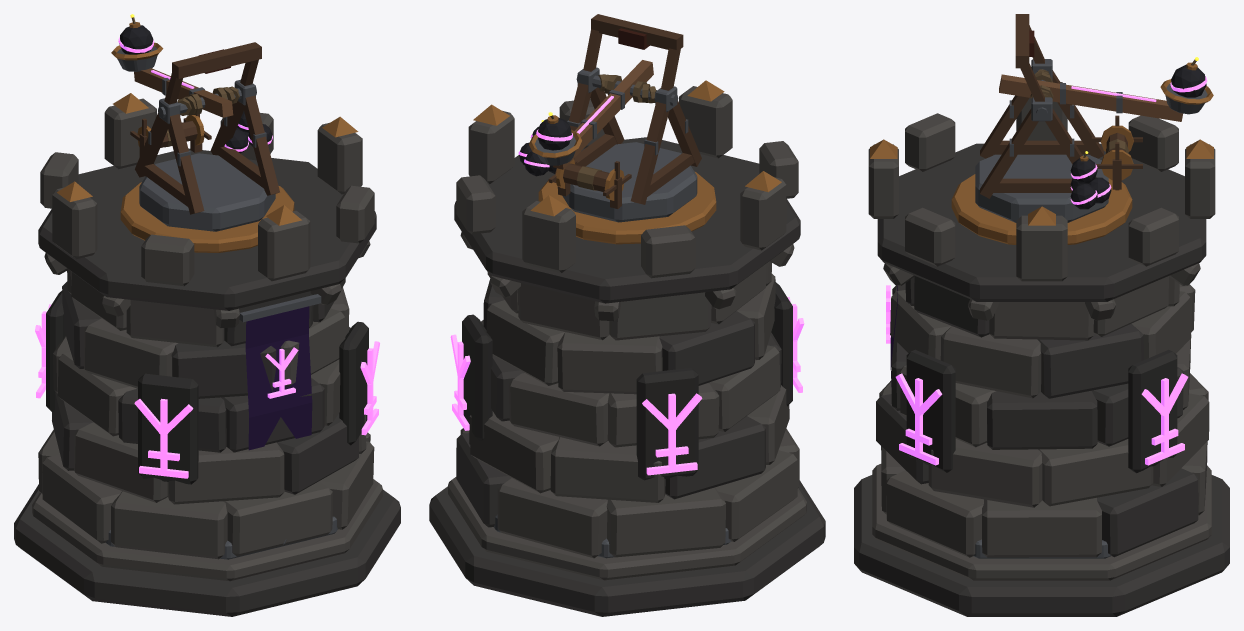
The model's file is bomb_tower_lvl3.glb.
3 renders of one model, left to right at view 1: azimuth 30°, elevation 25°; view 2: azimuth 150°, elevation 25°; view 3: azimuth 270°, elevation 25°, orthographic. The views are drawn at different scales.
Visible parts, largest first — view 1: Platform, Plinth, Plinth_Step, Banner, Turret_Base, Block_0_5, Block_0_6, Block_1_5, RuneStone_3, Block_3_4, Block_1_4, Block_3_5 (+35 smaller); view 2: Platform, Plinth, Plinth_Step, Block_0_3, Block_0_2, Block_1_2, Block_3_2, Turret_Base, RuneStone_2, Block_2_2, Block_3_3, Block_1_3 (+33 smaller); view 3: Platform, Plinth, Plinth_Step, Block_0_0, Block_2_0, Block_1_7, Block_0_1, Block_3_0, Block_0_7, Block_3_7, Block_1_0, Turret_Base (+38 smaller).
Boxes of the visible parts, box(x1,y1,x2,y2) form: Platform: box(38, 148, 376, 310); Plinth: box(14, 484, 400, 616); Plinth_Step: box(32, 479, 382, 581); Banner: box(245, 306, 312, 450); Turret_Base: box(139, 153, 275, 231); Block_0_5: box(111, 491, 227, 559); Block_0_6: box(223, 481, 332, 556); Block_1_5: box(167, 442, 284, 504); RuneStone_3: box(138, 373, 198, 484); Block_3_4: box(84, 318, 177, 388); Block_1_4: box(74, 422, 167, 502); Block_3_5: box(171, 340, 276, 398); Platform: box(454, 137, 800, 303); Plinth: box(429, 480, 825, 616); Plinth_Step: box(448, 477, 806, 580); Block_0_3: box(606, 487, 725, 557); Block_0_2: box(497, 478, 607, 558); Block_1_2: box(550, 437, 665, 502); Block_3_2: box(557, 332, 662, 394); Turret_Base: box(557, 142, 697, 222); RuneStone_2: box(636, 367, 698, 480); Block_2_2: box(508, 373, 609, 446); Block_3_3: box(659, 311, 754, 385); Block_1_3: box(665, 416, 765, 499); Platform: box(877, 143, 1206, 301); Plinth: box(854, 475, 1229, 616); Plinth_Step: box(872, 464, 1211, 580); Block_0_0: box(982, 497, 1101, 557); Block_2_0: box(987, 391, 1097, 449); Block_1_7: box(928, 439, 1042, 507); Block_0_1: box(1097, 468, 1198, 557); Block_3_0: box(1037, 323, 1143, 398); Block_0_7: box(886, 470, 983, 557); Block_3_7: box(940, 326, 1041, 398); Block_1_0: box(1038, 439, 1153, 506); Turret_Base: box(975, 154, 1108, 222).
Size of the model in its own units: 2.49 by 3.71 by 2.49.
